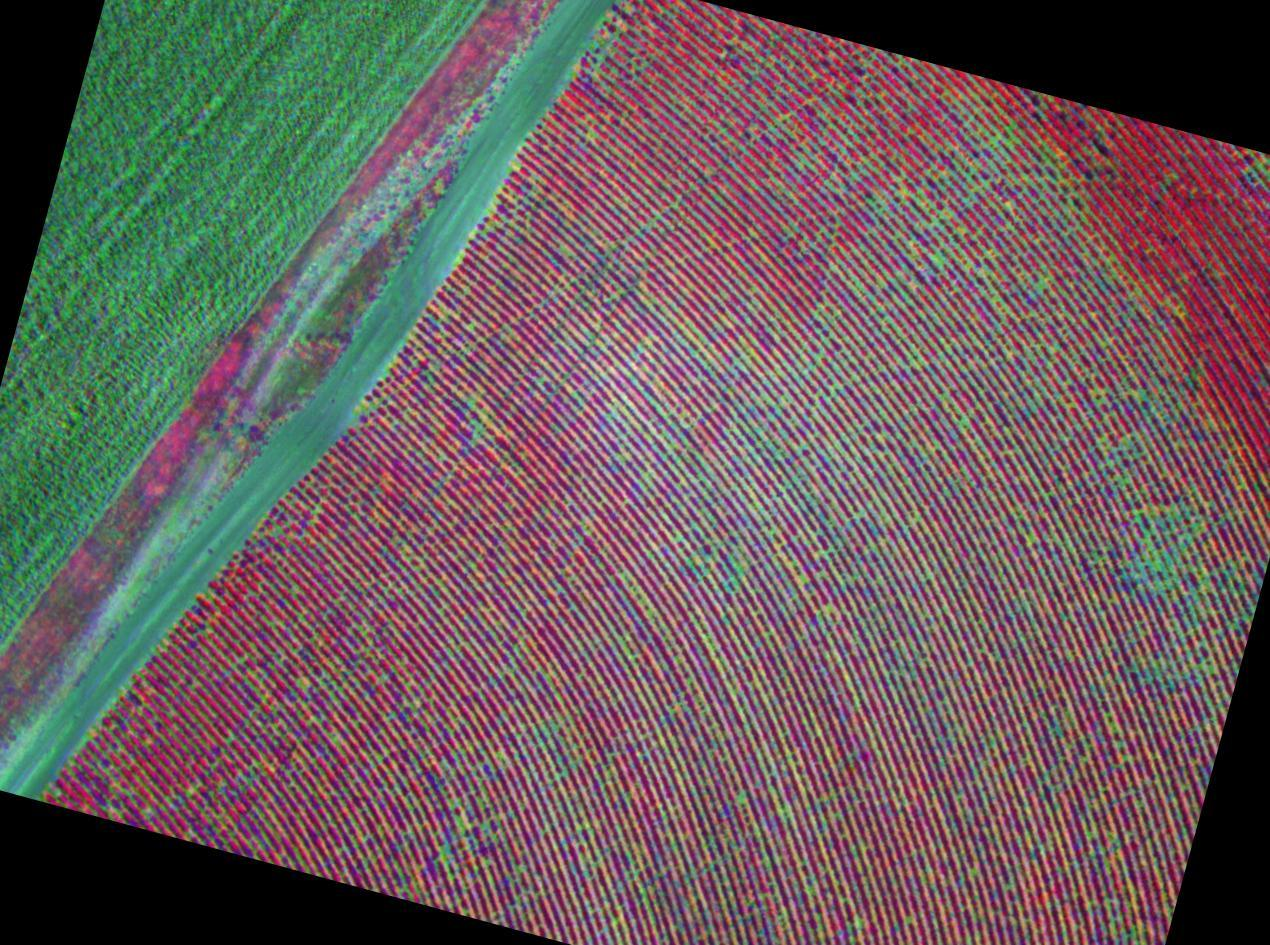dc: (834, 382, 839, 387), (476, 425, 481, 430), (1153, 562, 1157, 566), (576, 827, 580, 831), (807, 888, 811, 892), (1140, 392, 1143, 396), (1125, 479, 1128, 483), (1069, 616, 1073, 619), (1071, 403, 1074, 406)
